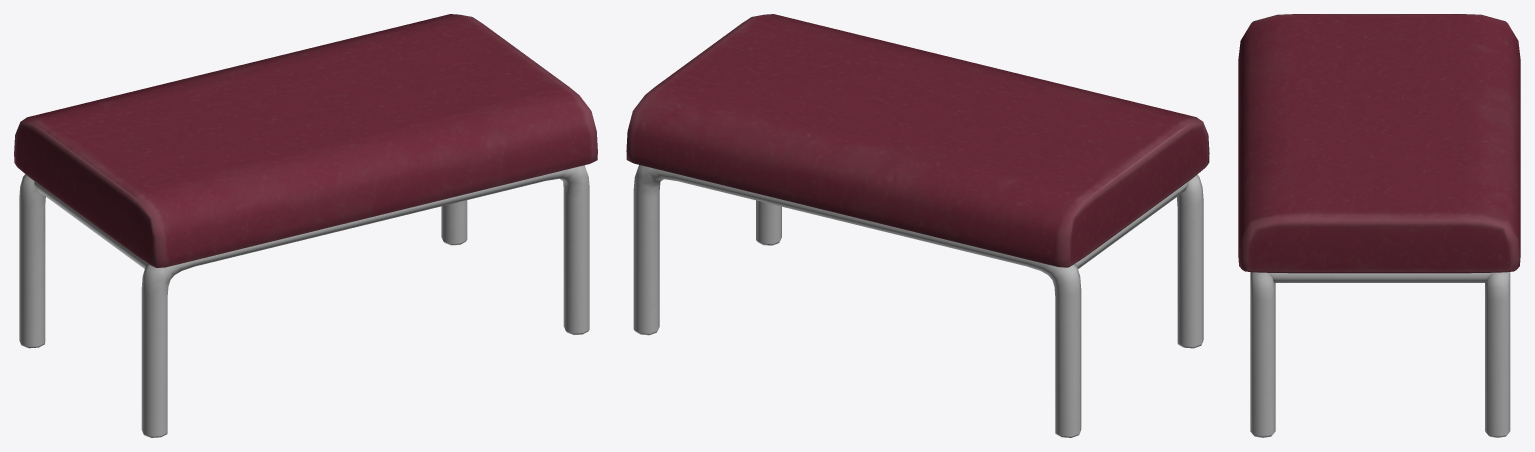
The model's file is SM_Chair3.fbx.
The picture shows the model from 3 angles, left to right: view 1: azimuth 30°, elevation 25°; view 2: azimuth 150°, elevation 25°; view 3: azimuth 270°, elevation 25°; orthographic projection. The views are drawn at different scales.
Visible parts, largest first — view 1: SM_Chair3_LOD0; view 2: SM_Chair3_LOD0; view 3: SM_Chair3_LOD0.
Part boxes in pixels (x1,y1,x2,y2): SM_Chair3_LOD0: (14, 14, 597, 437); SM_Chair3_LOD0: (626, 14, 1209, 437); SM_Chair3_LOD0: (1238, 14, 1520, 437).
Size of the model in its own units: 129 by 73.61 by 63.68.
1 material, 1 textured.
